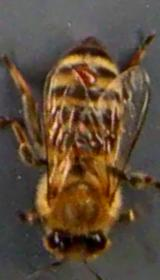varroa_mite: (68, 61, 107, 95)
